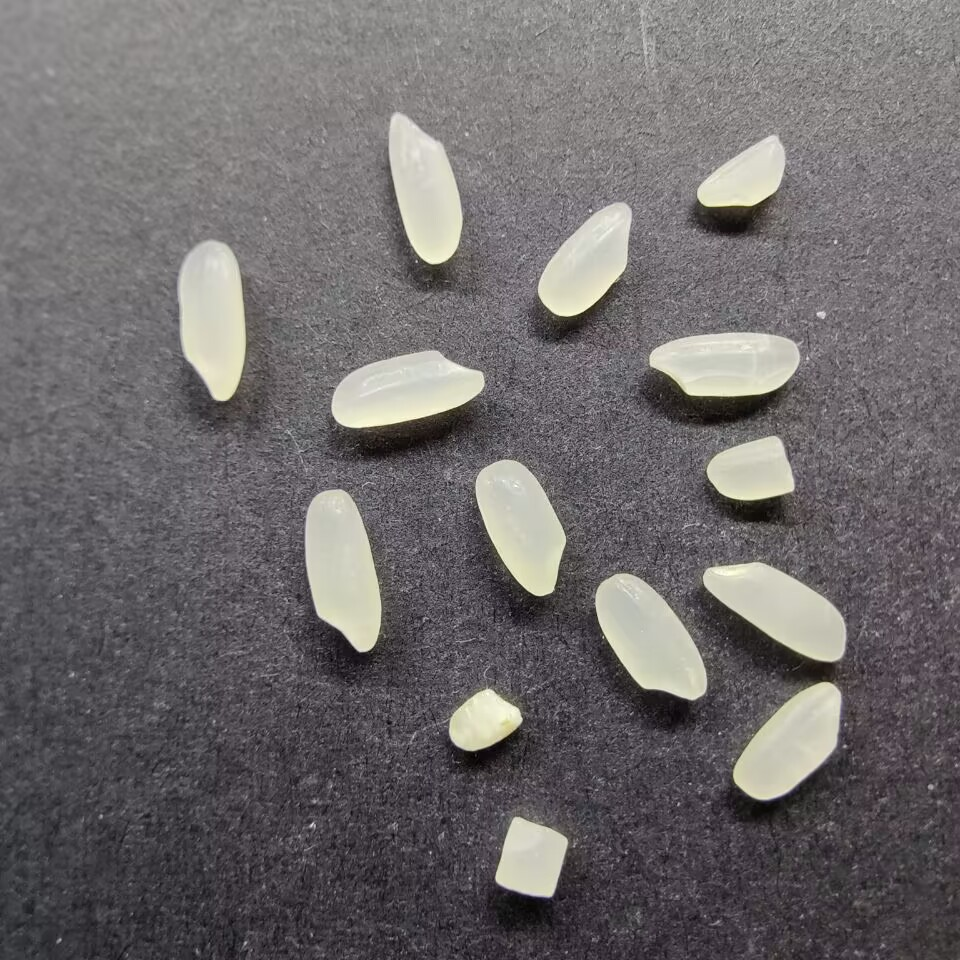broken: (692, 133, 787, 210), (493, 815, 570, 903), (703, 433, 798, 501), (446, 687, 526, 757)
rice: (592, 570, 709, 700), (700, 560, 849, 662), (301, 488, 383, 654), (731, 680, 843, 801), (472, 456, 567, 598), (384, 108, 466, 266), (329, 347, 485, 429), (175, 239, 248, 402), (536, 199, 634, 317), (646, 332, 800, 398)
